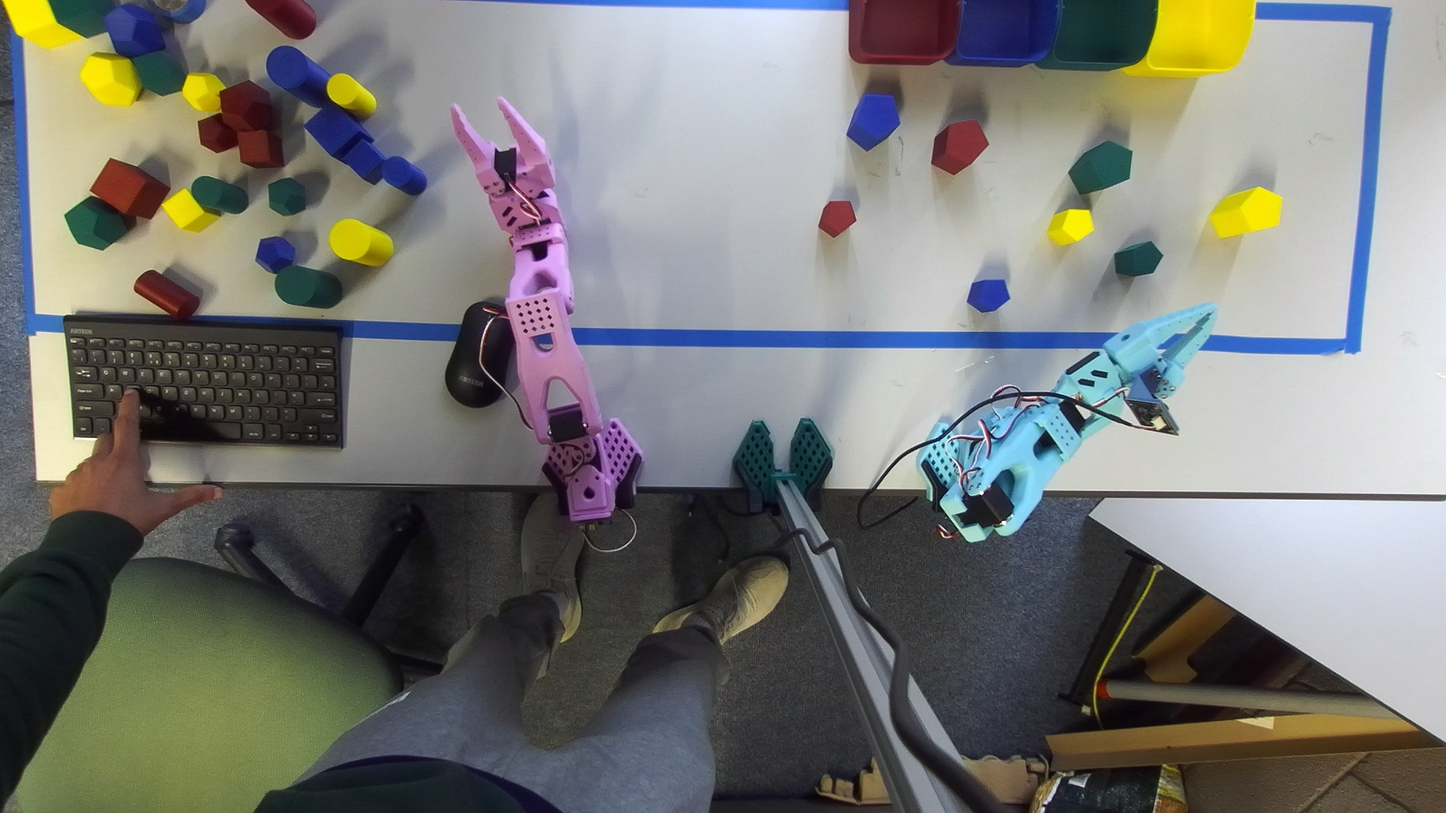bin: (1123, 0, 1255, 77), (1038, 0, 1158, 70), (946, 0, 1059, 66), (848, 0, 959, 65)
gripper: (450, 96, 562, 246), (1102, 303, 1216, 398)
hexagonal: (1209, 187, 1281, 238), (1069, 141, 1132, 194), (931, 120, 988, 174), (846, 93, 899, 151), (1113, 241, 1162, 277), (1047, 209, 1094, 245), (967, 279, 1009, 312), (819, 200, 856, 237)
